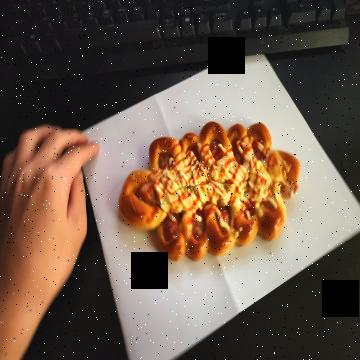pizza_bread: (117, 121, 301, 260)
